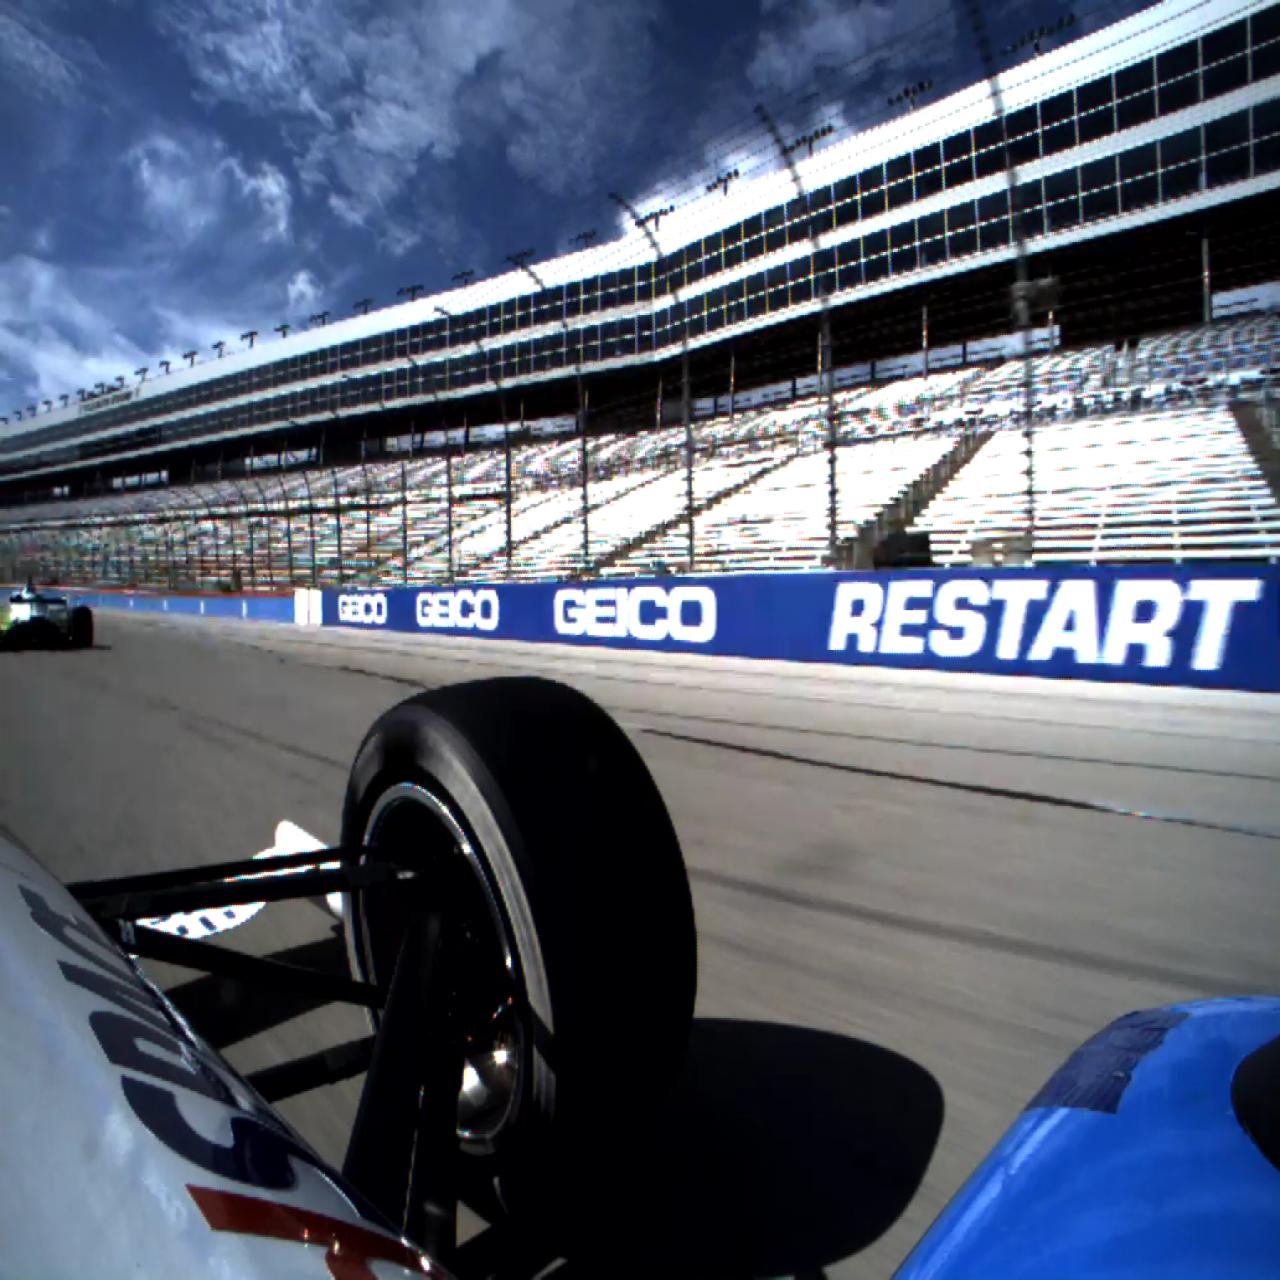AV: (0, 577, 94, 654)
Wheel: (343, 675, 700, 1208), (73, 605, 94, 648)
